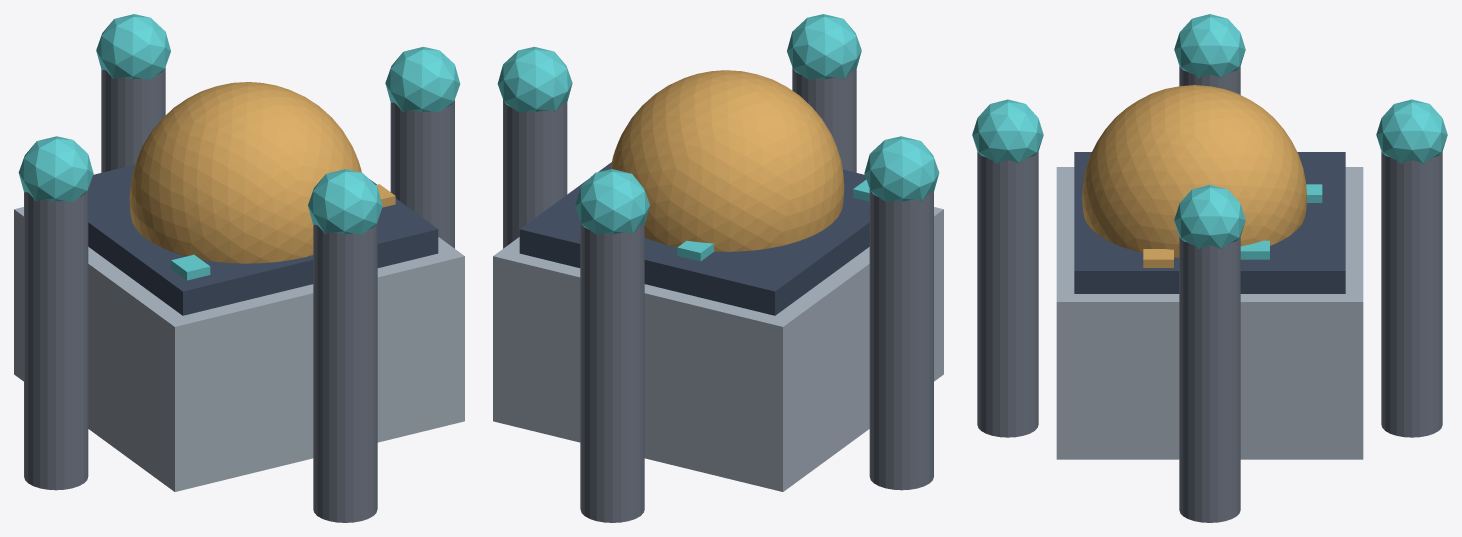
File: propulsor-recarga.glb
3 renders of one model, left to right at view 1: azimuth 30°, elevation 25°; view 2: azimuth 150°, elevation 25°; view 3: azimuth 270°, elevation 25°, orthographic. The views are drawn at different scales.
Parts seen in each view (by area): view 1: part000, part002, part006, part008, part001, part004, part010, part005, part007, part011, part009, part012; view 2: part000, part002, part010, part008, part001, part004, part005, part011, part007, part009, part006, part015; view 3: part000, part002, part006, part010, part004, part001, part007, part011, part009, part005, part008, part014.
Boxes of the visible parts, bbox=[...] form: part000: bbox=[14, 207, 464, 491]; part002: bbox=[129, 82, 361, 263]; part006: bbox=[313, 221, 377, 522]; part008: bbox=[24, 189, 88, 490]; part001: bbox=[88, 164, 438, 315]; part004: bbox=[390, 100, 454, 248]; part010: bbox=[101, 67, 165, 172]; part005: bbox=[385, 46, 460, 112]; part007: bbox=[308, 169, 382, 234]; part011: bbox=[96, 14, 170, 79]; part009: bbox=[18, 136, 93, 201]; part012: bbox=[171, 254, 210, 280]; part000: bbox=[493, 207, 943, 491]; part002: bbox=[610, 70, 844, 251]; part010: bbox=[580, 221, 644, 522]; part008: bbox=[869, 189, 933, 490]; part001: bbox=[519, 162, 869, 315]; part004: bbox=[503, 100, 567, 248]; part005: bbox=[497, 46, 572, 112]; part011: bbox=[575, 169, 649, 234]; part007: bbox=[787, 14, 861, 79]; part009: bbox=[864, 136, 939, 201]; part006: bbox=[792, 67, 856, 172]; part015: bbox=[677, 240, 714, 261]; part000: bbox=[1056, 167, 1363, 459]; part002: bbox=[1082, 85, 1306, 257]; part006: bbox=[977, 151, 1038, 437]; part010: bbox=[1381, 151, 1442, 437]; part004: bbox=[1179, 237, 1240, 522]; part001: bbox=[1074, 152, 1345, 293]; part007: bbox=[972, 99, 1043, 163]; part011: bbox=[1376, 99, 1447, 163]; part009: bbox=[1174, 14, 1245, 78]; part005: bbox=[1174, 185, 1245, 248]; part008: bbox=[1179, 66, 1240, 94]; part014: bbox=[1143, 249, 1173, 267].
Size of the model in its own units: 1.86 by 1.42 by 1.86.
